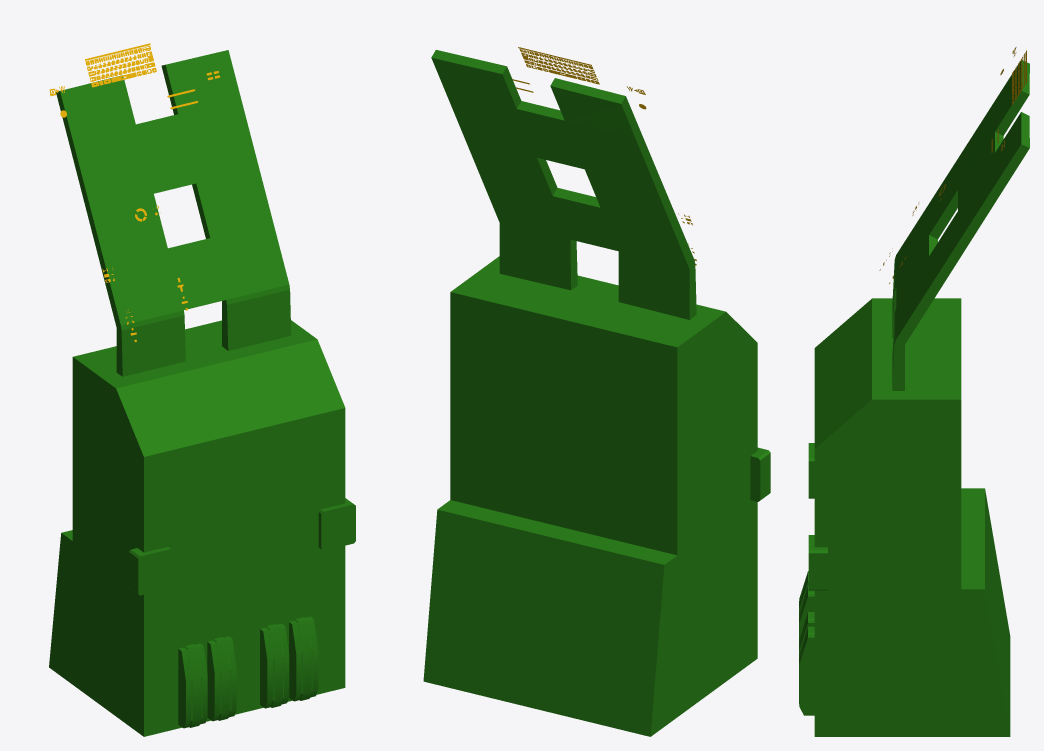
Rendered from control_panel_b.FBX.
3 views of the same model, side by side, from view 1: azimuth 30°, elevation 25°; view 2: azimuth 150°, elevation 25°; view 3: azimuth 270°, elevation 25° (orthographic). The views are drawn at different scales.
Visible parts, largest first — view 1: panel_low2, panel; view 2: panel_low2, panel; view 3: panel_low2, panel.
Part boxes in pixels (left/top/right/bottom): panel_low2: left=49, top=50, right=355, bottom=736; panel: left=49, top=43, right=220, bottom=341; panel_low2: left=423, top=50, right=770, bottom=736; panel: left=512, top=47, right=696, bottom=265; panel_low2: left=799, top=60, right=1029, bottom=736; panel: left=879, top=47, right=1026, bottom=283.
Bounding box in the file's own units: 145 × 322 × 111.
